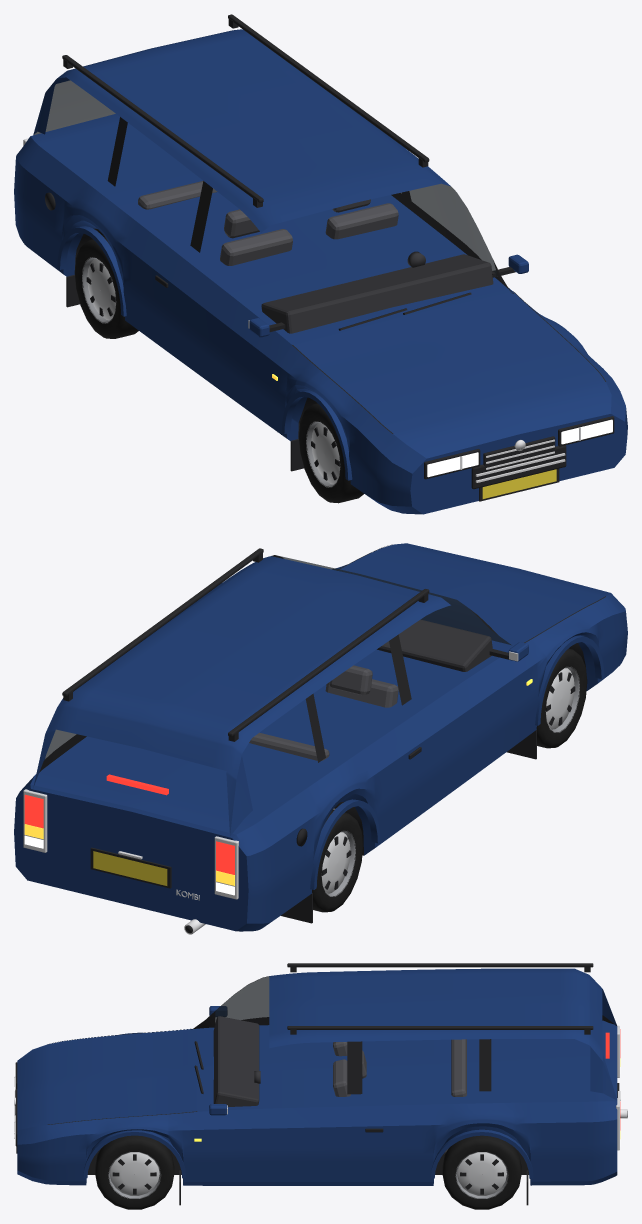
Rendered from tr_estate.glb.
The picture shows the model from 3 angles, top to bottom: view 1: azimuth 30°, elevation 25°; view 2: azimuth 150°, elevation 25°; view 3: azimuth 270°, elevation 25°; orthographic projection. The views are drawn at different scales.
Parts seen in each view (by area): view 1: cabin_roof, tub, hood, door_R, nose, dash, quarter_R, fender_R, cabin_glass, wheel_FR, wheel_RR, tail (+14 smaller); view 2: cabin_roof, tail, tub, door_R, hood, quarter_R, fender_R, dash, wheel_FR, wheel_RR, cabin_glass, nose (+14 smaller); view 3: cabin_roof, tub, door_L, hood, quarter_L, fender_L, wheel_FL, wheel_RL, nose, dash, tail, cabin_pillar (+7 smaller).
Part boxes in pixels (bbox=[...]): cabin_roof: bbox=[33, 29, 450, 232]; tub: bbox=[39, 123, 512, 344]; hood: bbox=[293, 291, 605, 433]; door_R: bbox=[102, 207, 291, 431]; nose: bbox=[376, 382, 627, 514]; dash: bbox=[261, 254, 493, 333]; quarter_R: bbox=[22, 146, 117, 276]; fender_R: bbox=[276, 345, 392, 508]; cabin_glass: bbox=[34, 80, 497, 276]; wheel_FR: bbox=[298, 403, 363, 503]; wheel_RR: bbox=[74, 236, 138, 338]; tail: bbox=[14, 114, 119, 243]; cabin_roof: bbox=[33, 556, 450, 836]; tail: bbox=[14, 771, 271, 931]; tub: bbox=[41, 644, 509, 823]; door_R: bbox=[338, 657, 529, 855]; hood: bbox=[338, 545, 604, 648]; quarter_R: bbox=[255, 767, 354, 929]; fender_R: bbox=[521, 597, 622, 735]; dash: bbox=[377, 619, 492, 671]; wheel_FR: bbox=[536, 648, 587, 748]; wheel_RR: bbox=[312, 810, 363, 912]; cabin_glass: bbox=[45, 555, 510, 758]; nose: bbox=[393, 543, 627, 663]; cabin_roof: bbox=[269, 968, 617, 1100]; tub: bbox=[197, 1025, 593, 1111]; door_L: bbox=[197, 1103, 467, 1185]; hood: bbox=[47, 1028, 197, 1124]; quarter_L: bbox=[467, 1101, 593, 1185]; fender_L: bbox=[47, 1112, 197, 1185]; wheel_FL: bbox=[95, 1135, 174, 1209]; wheel_RL: bbox=[442, 1135, 521, 1209]; nose: bbox=[17, 1044, 47, 1184]; dash: bbox=[213, 1016, 259, 1106]; tail: bbox=[593, 1020, 617, 1184]; cabin_pillar: bbox=[191, 976, 491, 1094].
Bounding box in the file's own units: 1.89 × 1.47 × 4.81.
